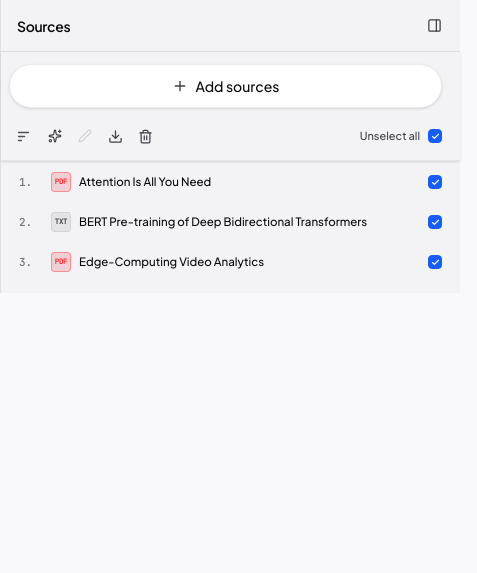
it: RightSidebar Component › switches to document reader when a document card is clicked
Click the text "Attention Is All You Need": (145, 182) [79,173,211,191]
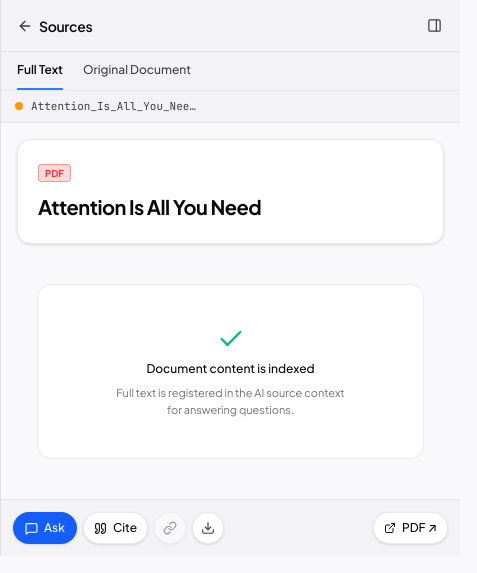
expect the text "Full Text" is shown: met, box [17,62,63,78]
expect the text "Original Document" is shown: met, box [83,62,191,78]
expect the text "Attention_Is_All_You_Need.pdf" is shown: met, box [31,99,201,114]
